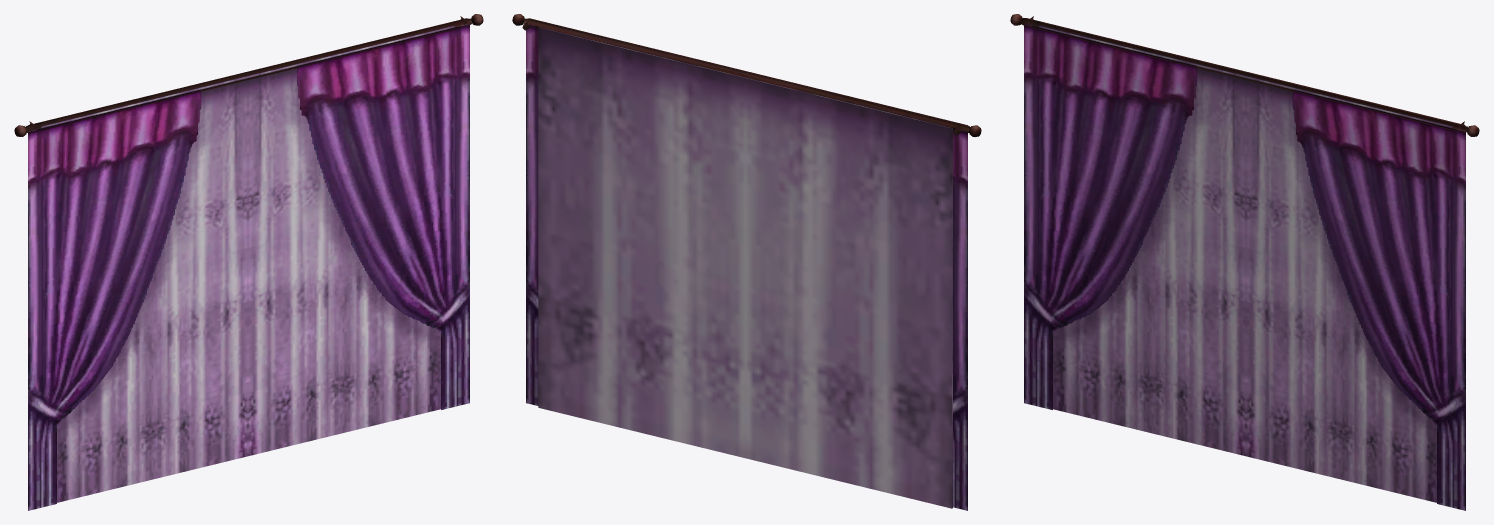
The model's file is furni_0201136_01.FBX.
The picture shows the model from 3 angles, left to right: view 1: azimuth 30°, elevation 25°; view 2: azimuth 150°, elevation 25°; view 3: azimuth 330°, elevation 25°; orthographic projection.
Parts seen in each view (by area): view 1: furni_0201136_01; view 2: furni_0201136_01; view 3: furni_0201136_01.
Part boxes in pixels (x1,y1,x2,y2): furni_0201136_01: [14, 14, 483, 510]; furni_0201136_01: [512, 14, 981, 510]; furni_0201136_01: [1010, 14, 1479, 510].
Bounding box in the file's own units: 353 × 279 × 12.24.
Materials: 2 (2 with a texture image).
